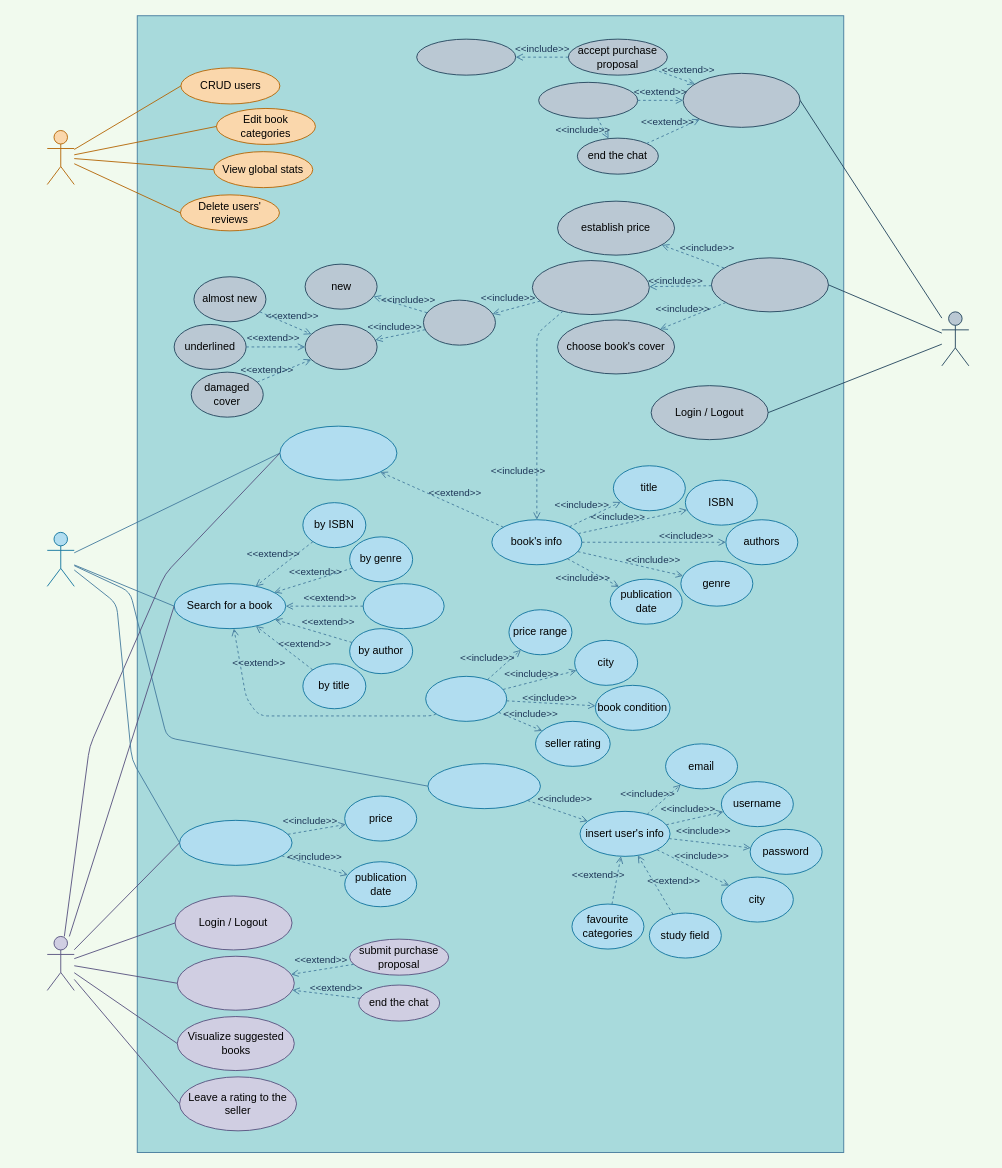
Image size: 1002x1168. Some labels were removed from this diagram. The box of each missing label's shape, as (x1, y1, x2, y2) in pixels:
Answer to a buyer: (682, 72, 800, 127)
Buyer [logged user]: (46, 936, 74, 990)
by publication date: (362, 583, 444, 629)
condition: (423, 299, 495, 345)
Contact a seller: (176, 955, 294, 1010)
decline purchase proposal: (538, 81, 638, 118)
Filter query results: (425, 675, 507, 721)
insert book's info: (531, 260, 649, 315)
mark the book as sold: (416, 38, 516, 75)
Post a new book advertisement: (711, 257, 828, 312)
Register: (427, 763, 540, 809)
second-hand: (304, 324, 377, 369)
Seller [logged user]: (941, 311, 969, 366)
Sort query results: (179, 819, 292, 865)
System Admin: (46, 130, 74, 184)
Viewer [unregistered user]: (46, 531, 74, 586)
Visualize book library: (279, 425, 397, 480)
